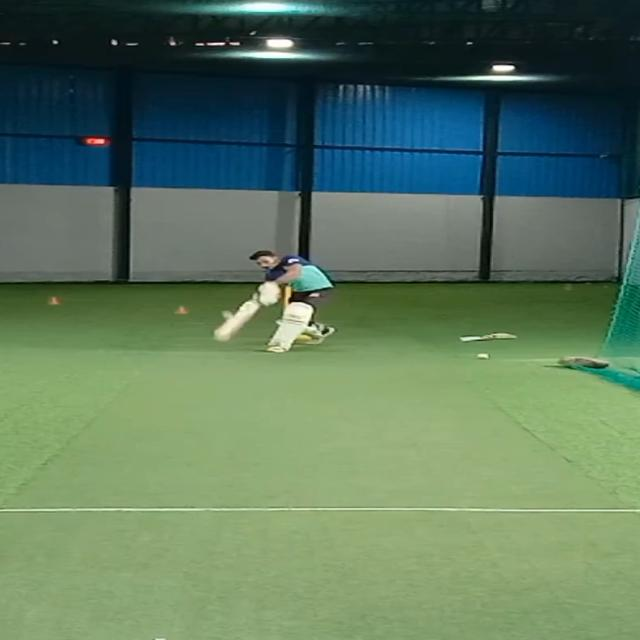ball: (475, 352, 491, 361), (221, 312, 235, 321)
